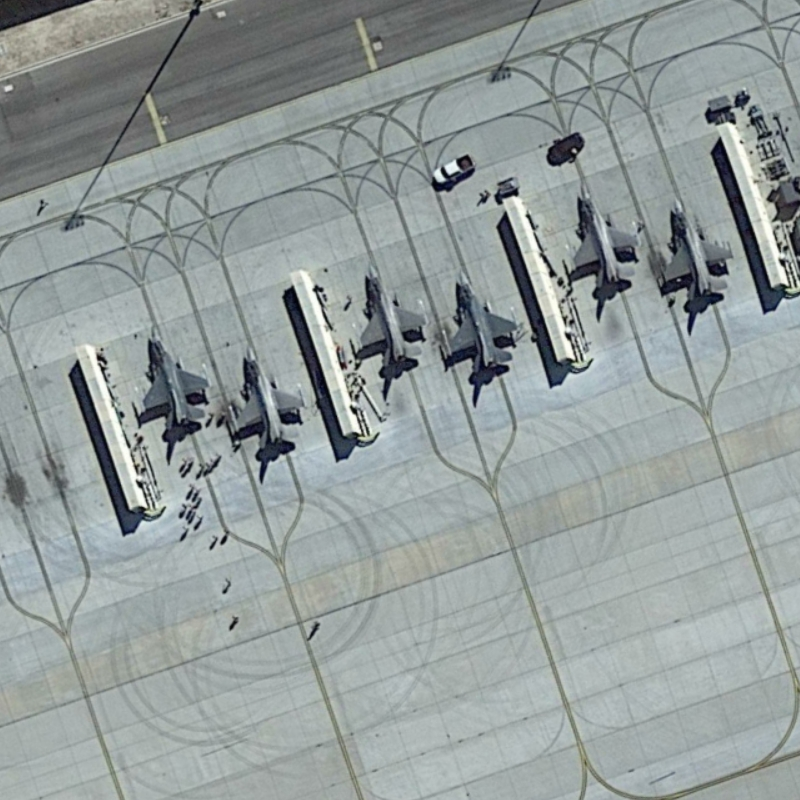A5: (562, 183, 653, 301), (340, 255, 429, 373), (434, 263, 523, 378), (225, 342, 309, 460), (656, 194, 741, 309), (135, 321, 216, 439)
